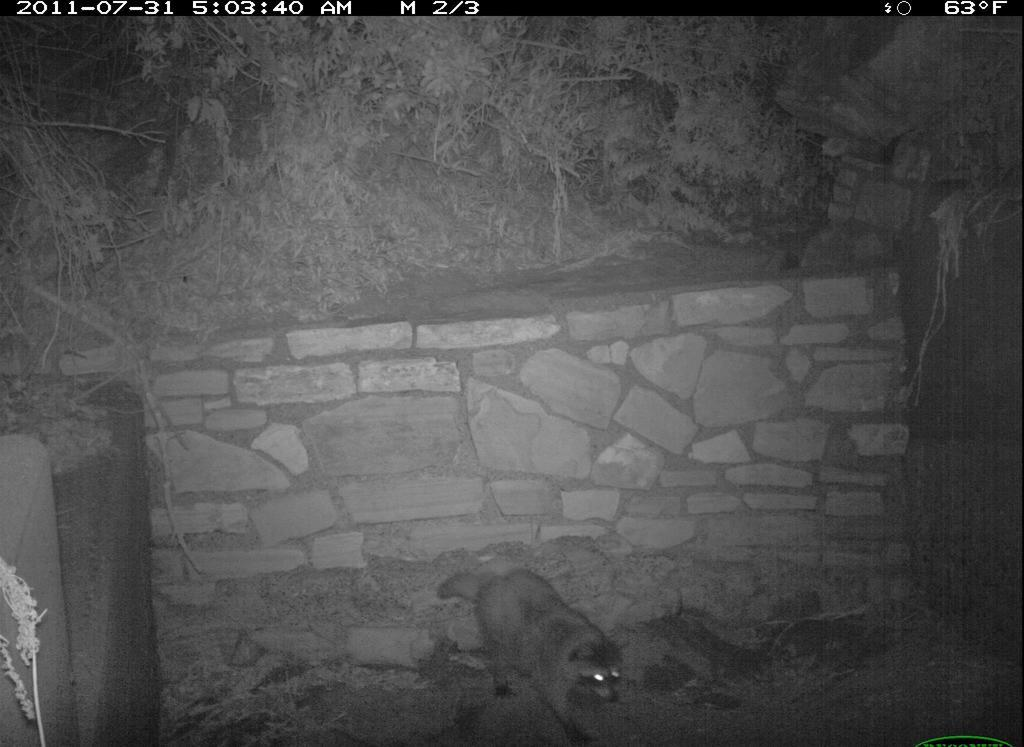raccoon: (417, 565, 651, 747)
